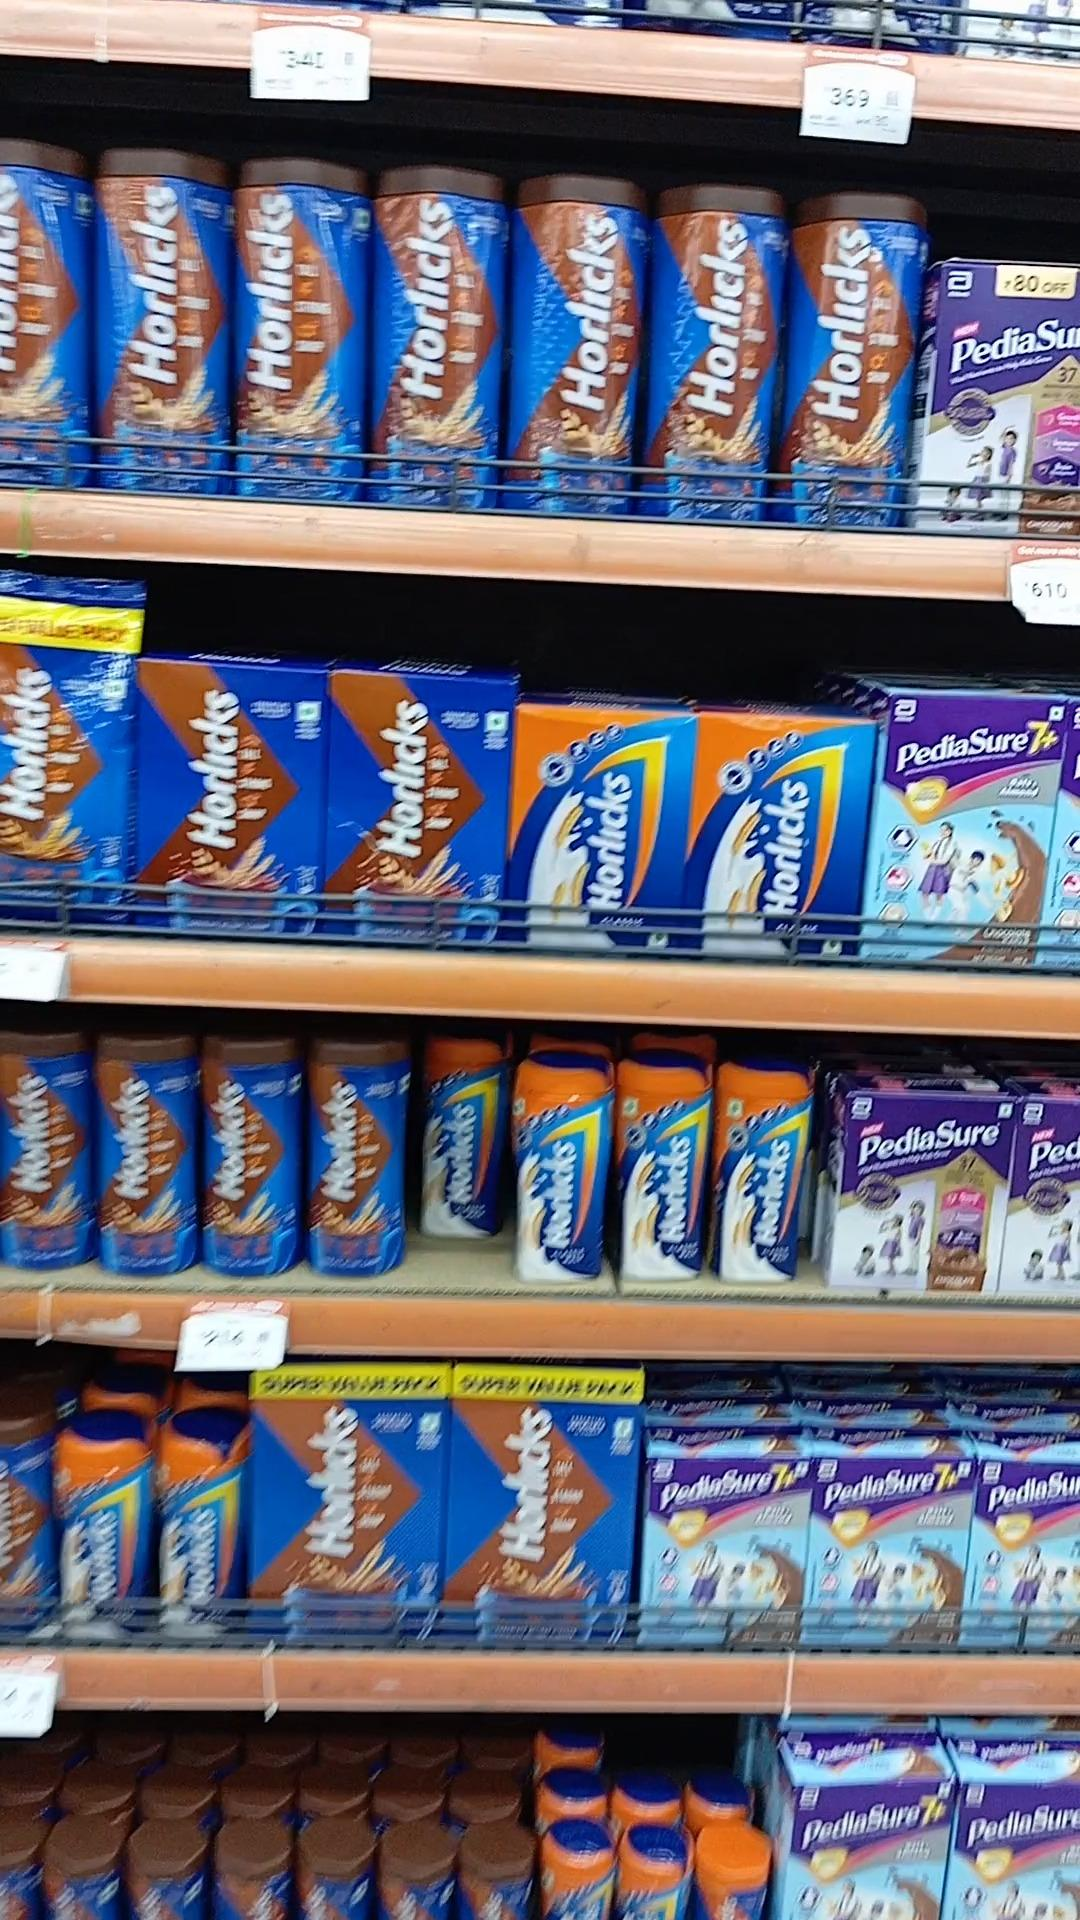HORLICK_CHOCOLATE_1_KG_PACK: (249, 1366, 446, 1640), (452, 1364, 629, 1639)
HORLICK_CHOCOLATE_500_G_JAR: (199, 1035, 298, 1276), (96, 1034, 194, 1278), (305, 1035, 401, 1275), (0, 1027, 90, 1271)
HORLICK_CHOCOLATE_500_G_PACK: (137, 661, 324, 935), (335, 674, 500, 942)
HORLICK_CHOCOLATE_750_G_POUCH: (0, 567, 129, 922)
HORLICK_CLASSIC_MALT_500_G_JAR: (512, 1050, 605, 1283), (51, 1420, 154, 1627), (616, 1054, 707, 1282), (711, 1058, 803, 1282), (158, 1414, 241, 1633), (422, 1039, 502, 1238)
HORLICK_CLASSIC_MALT_500_G_PACK: (509, 704, 692, 952), (700, 712, 856, 959)
PEDIASURE_7_PLUS_CHOCOLATE_400_G_PACK: (880, 682, 1040, 971), (645, 1461, 804, 1652), (812, 1461, 959, 1646)
PEDIASURE_CHOCOLATE_500_G_PACK: (841, 1080, 997, 1290)
